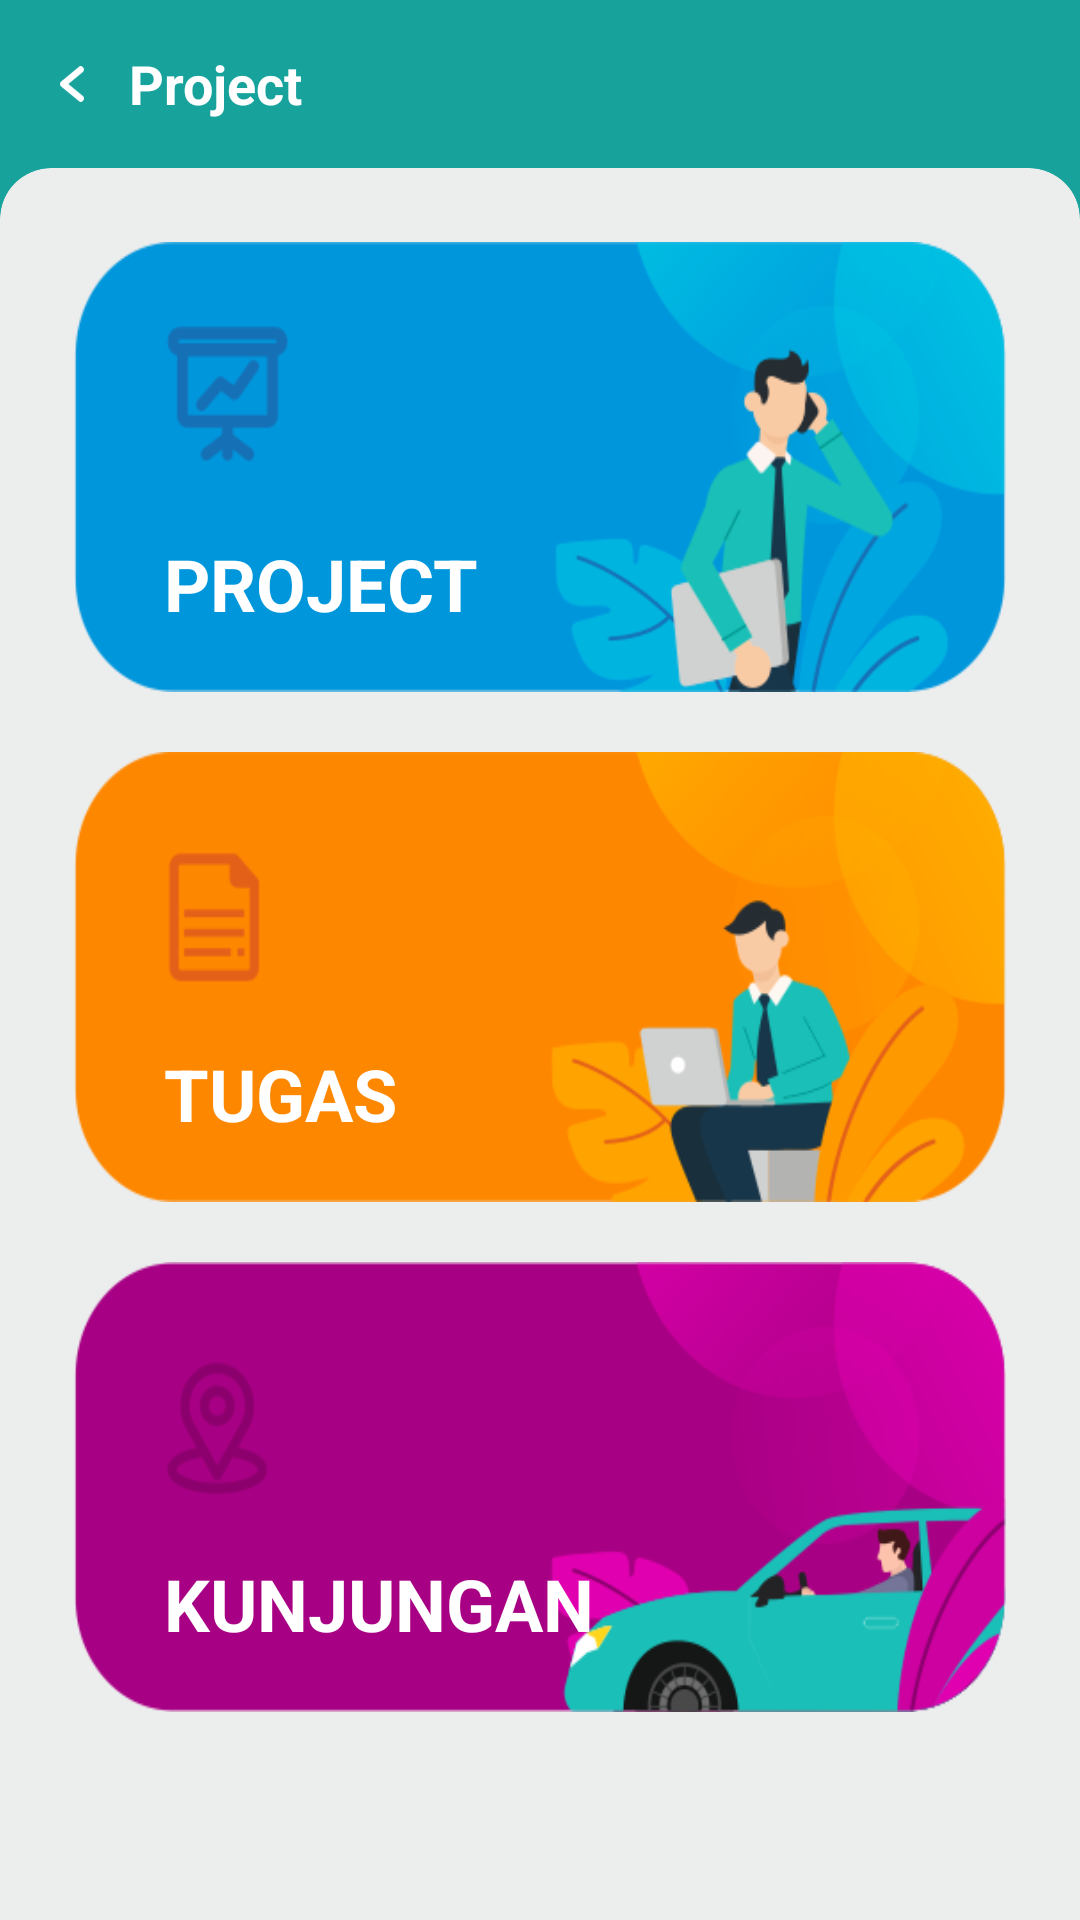

Icons on this 1080px x 1920px Android screen, each with the point to tap as point (x, y):
back: point (72, 84)
